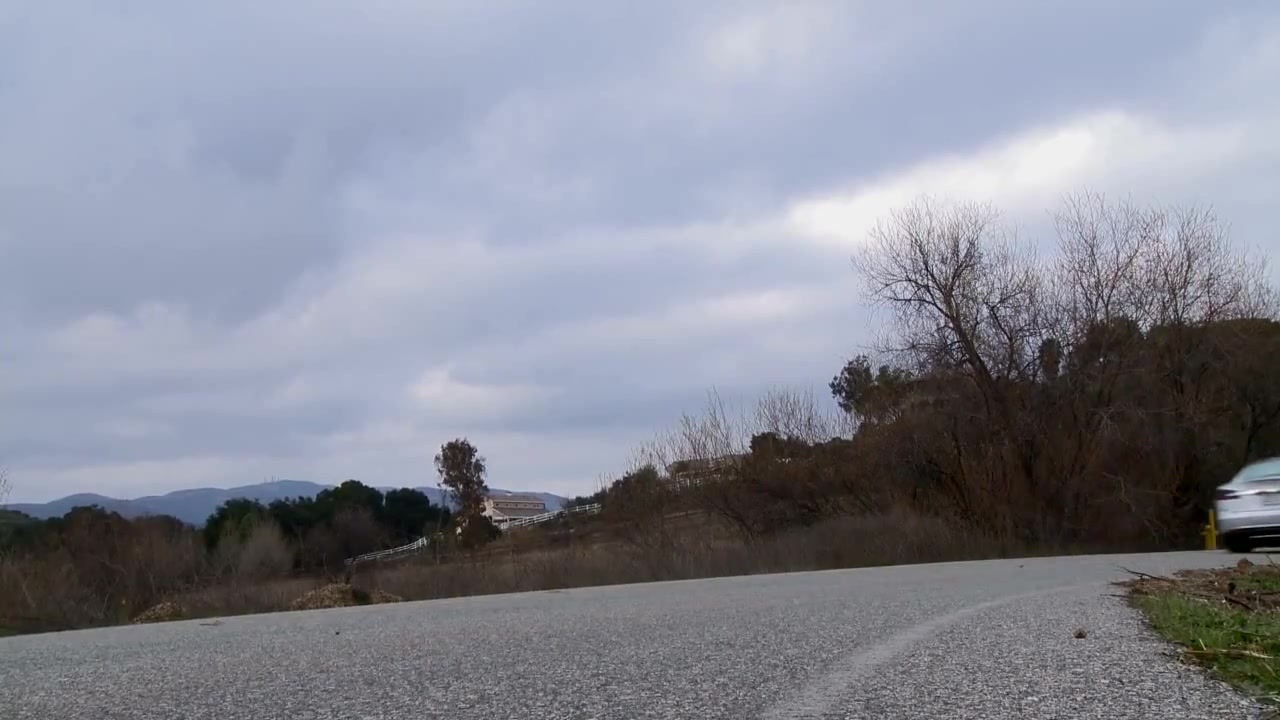car: (1213, 455, 1280, 551)
